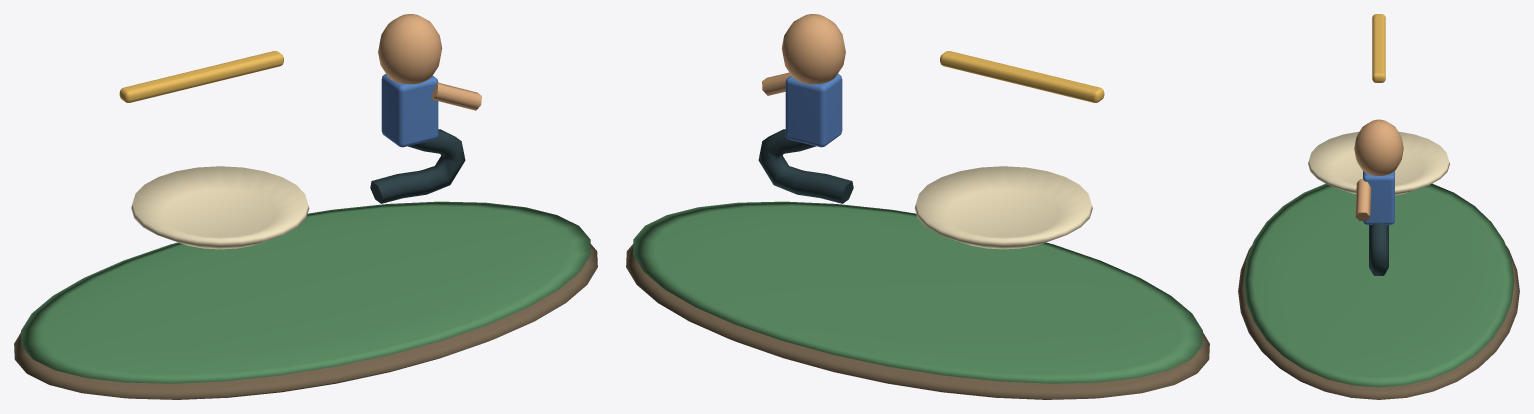
Rendered from complete-second-one-absent.glb.
The picture shows the model from 3 angles, left to right: view 1: azimuth 30°, elevation 25°; view 2: azimuth 150°, elevation 25°; view 3: azimuth 270°, elevation 25°; orthographic projection. The views are drawn at different scales.
Parts seen in each view (by area): view 1: complete-second-one-absent_surface_01, complete-second-one-absent_surface_06, complete-second-one-absent_surface_00, complete-second-one-absent_surface_03, complete-second-one-absent_surface_04, complete-second-one-absent_surface_05, complete-second-one-absent_surface_02; view 2: complete-second-one-absent_surface_01, complete-second-one-absent_surface_06, complete-second-one-absent_surface_00, complete-second-one-absent_surface_03, complete-second-one-absent_surface_04, complete-second-one-absent_surface_05, complete-second-one-absent_surface_02; view 3: complete-second-one-absent_surface_01, complete-second-one-absent_surface_00, complete-second-one-absent_surface_06, complete-second-one-absent_surface_03, complete-second-one-absent_surface_04, complete-second-one-absent_surface_05, complete-second-one-absent_surface_02.
Part boxes in pixels (left/top/right/bottom): complete-second-one-absent_surface_01: left=21, top=201, right=590, bottom=383; complete-second-one-absent_surface_06: left=131, top=166, right=309, bottom=249; complete-second-one-absent_surface_00: left=14, top=244, right=597, bottom=399; complete-second-one-absent_surface_03: left=378, top=14, right=481, bottom=110; complete-second-one-absent_surface_04: left=381, top=74, right=438, bottom=147; complete-second-one-absent_surface_05: left=370, top=129, right=465, bottom=203; complete-second-one-absent_surface_02: left=119, top=51, right=283, bottom=102; complete-second-one-absent_surface_01: left=633, top=201, right=1202, bottom=383; complete-second-one-absent_surface_06: left=914, top=166, right=1092, bottom=249; complete-second-one-absent_surface_00: left=626, top=244, right=1209, bottom=399; complete-second-one-absent_surface_03: left=762, top=14, right=845, bottom=95; complete-second-one-absent_surface_04: left=785, top=74, right=842, bottom=147; complete-second-one-absent_surface_05: left=758, top=129, right=853, bottom=203; complete-second-one-absent_surface_02: left=940, top=51, right=1104, bottom=102; complete-second-one-absent_surface_01: left=1243, top=183, right=1514, bottom=387; complete-second-one-absent_surface_00: left=1238, top=245, right=1519, bottom=399; complete-second-one-absent_surface_06: left=1308, top=131, right=1449, bottom=195; complete-second-one-absent_surface_03: left=1354, top=119, right=1403, bottom=220; complete-second-one-absent_surface_04: left=1363, top=171, right=1394, bottom=224; complete-second-one-absent_surface_05: left=1369, top=223, right=1388, bottom=275; complete-second-one-absent_surface_02: left=1372, top=14, right=1385, bottom=82.
Size of the model in its own units: 4.56 by 2.19 by 2.5.
